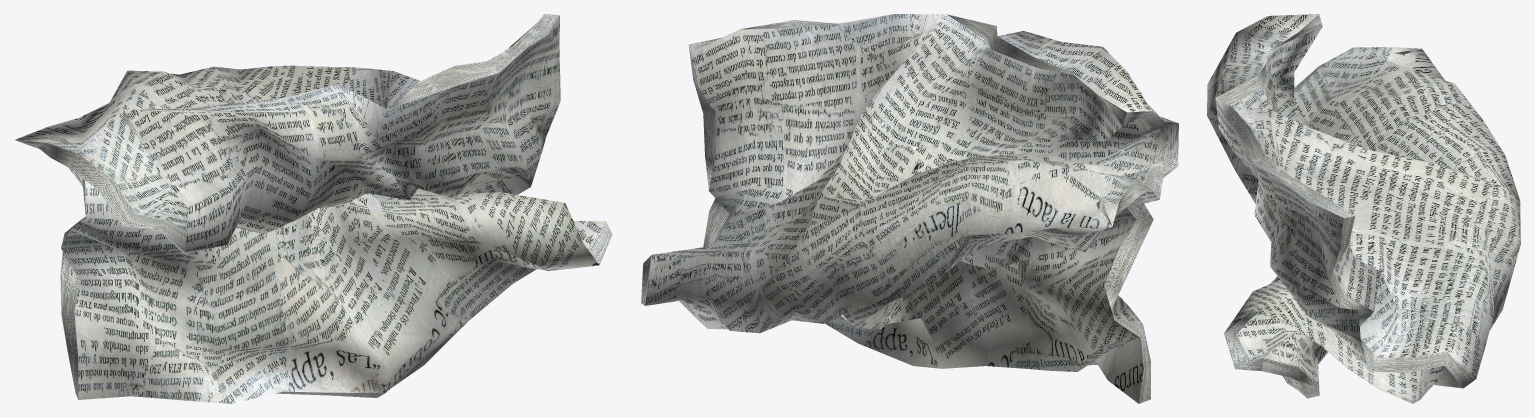
The model's file is Trash.fbx.
3 renders of one model, left to right at view 1: azimuth 30°, elevation 25°; view 2: azimuth 150°, elevation 25°; view 3: azimuth 270°, elevation 25°, orthographic. The views are drawn at different scales.
Visible parts, largest first — view 1: Box001; view 2: Box001; view 3: Box001.
Part boxes in pixels (x1,y1,x2,y2): Box001: [15, 14, 612, 403]; Box001: [641, 14, 1178, 403]; Box001: [1207, 14, 1520, 403].
Size of the model in its own units: 8.21 by 5.52 by 5.39.
1 material, 1 textured.
